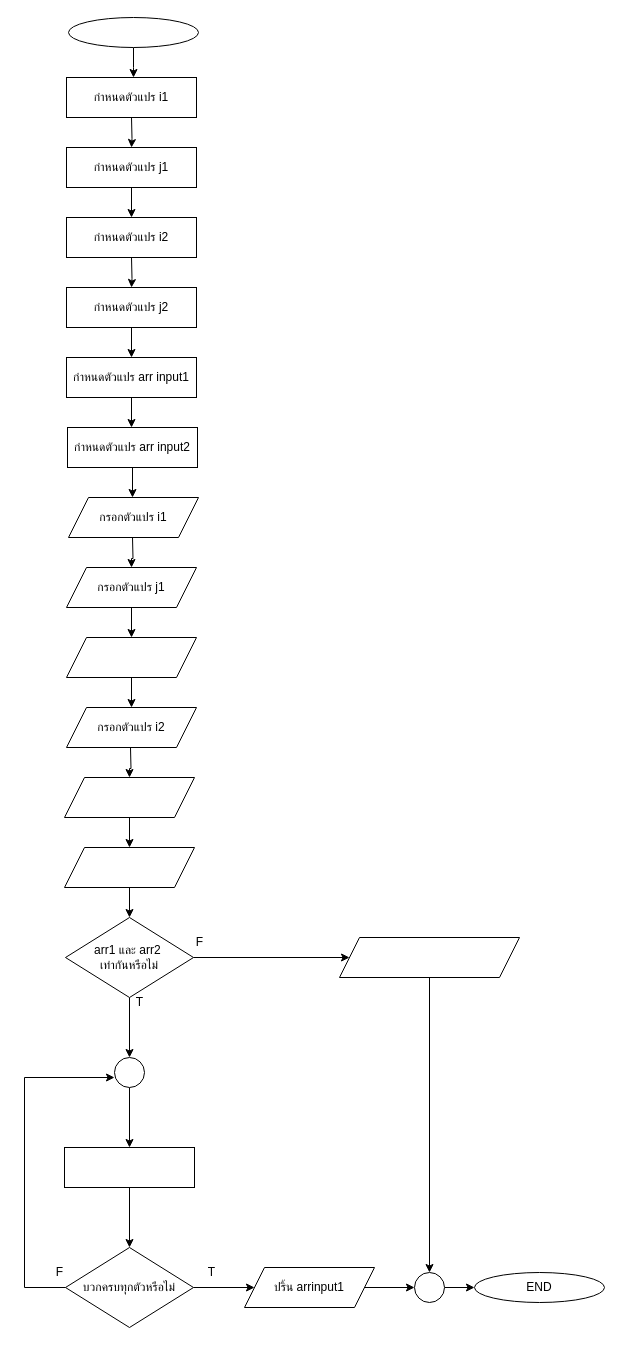
The diagram is 622 pixels wide and 1345 high, and some of its shapes have lost their labels. Here are the shapes that lost their labels. From the top down, the centre of each, then its label:
the point at 133,32: Start
the point at 131,657: กรอกตัวแปร arrinput 1
the point at 129,797: กรอกตัวแปร j2
the point at 129,867: กรอกตัวแปร arrinput 2
the point at 429,957: Error: Invalid matrix input
the point at 129,1167: input1 =+ input2
